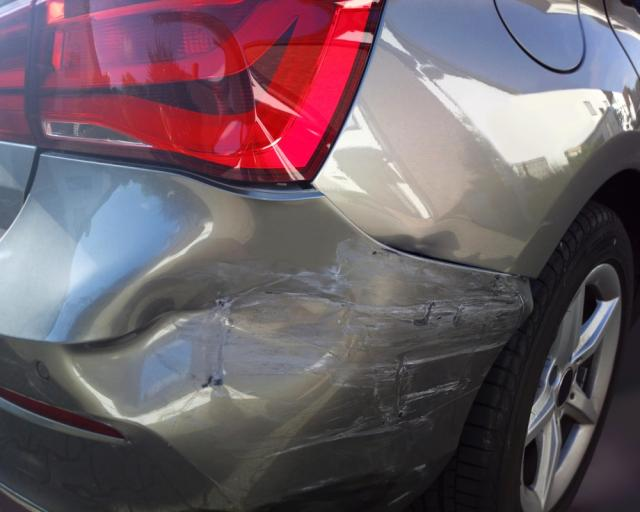dent: (70, 250, 373, 418)
scratch: (244, 235, 526, 507)
